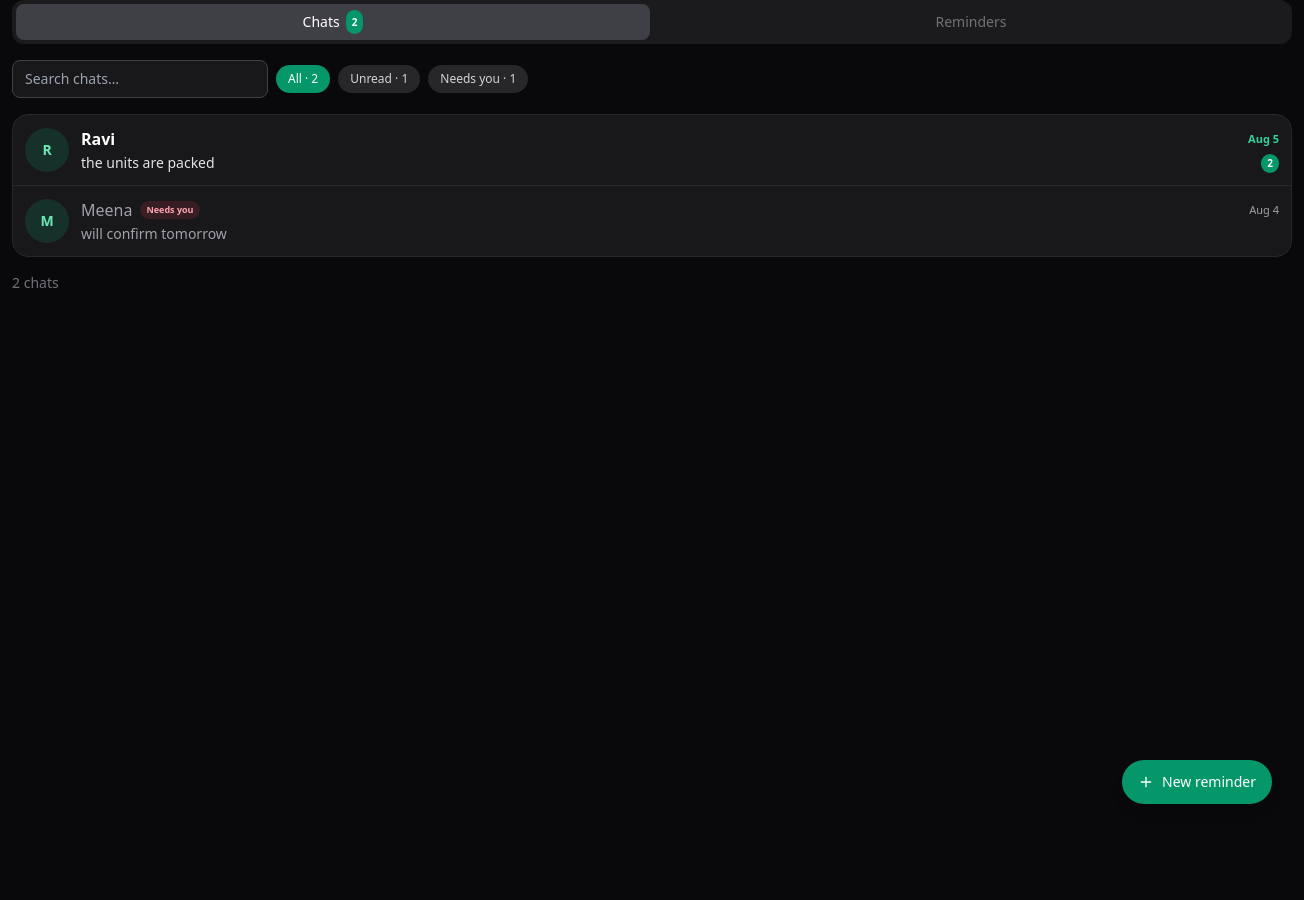
the chats inbox gets search and chips, and stays an inbox (BEA-1287) › the Unread chip narrows to unread chats, and a no-match says so honestly
The width and height of the screenshot is (1304, 900).
Expected: the text "Ravi" is shown, [81,127,115,151]
Click the button "Unread · 1" at (379, 79), box [338,65,420,93]
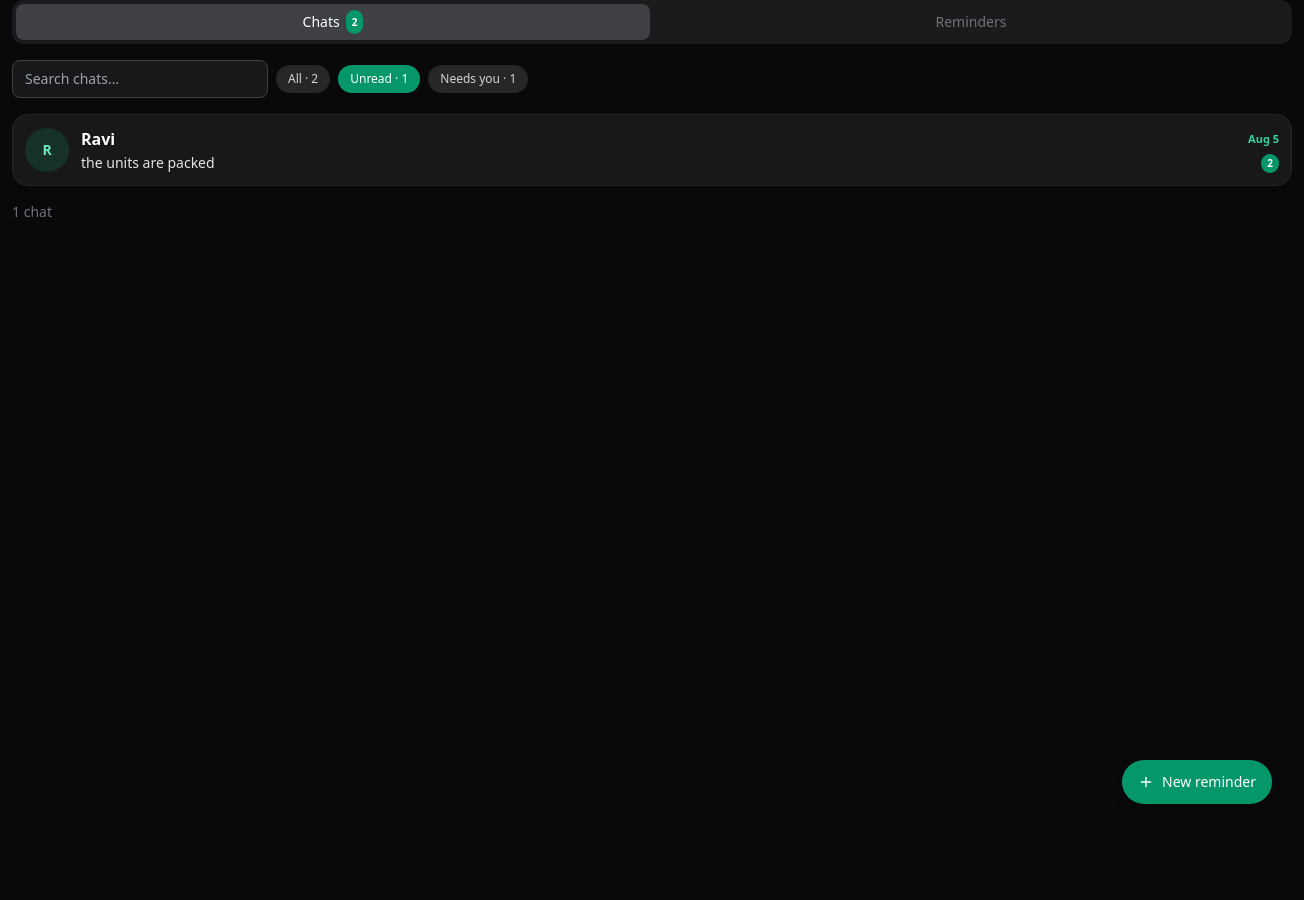
Expected: the text "Ravi" is shown, [81,127,115,151]
Expected: the button "Meena" is gone
Type "zzz" into the field labelled "Search chats" at (140, 79), box [12,60,268,98]
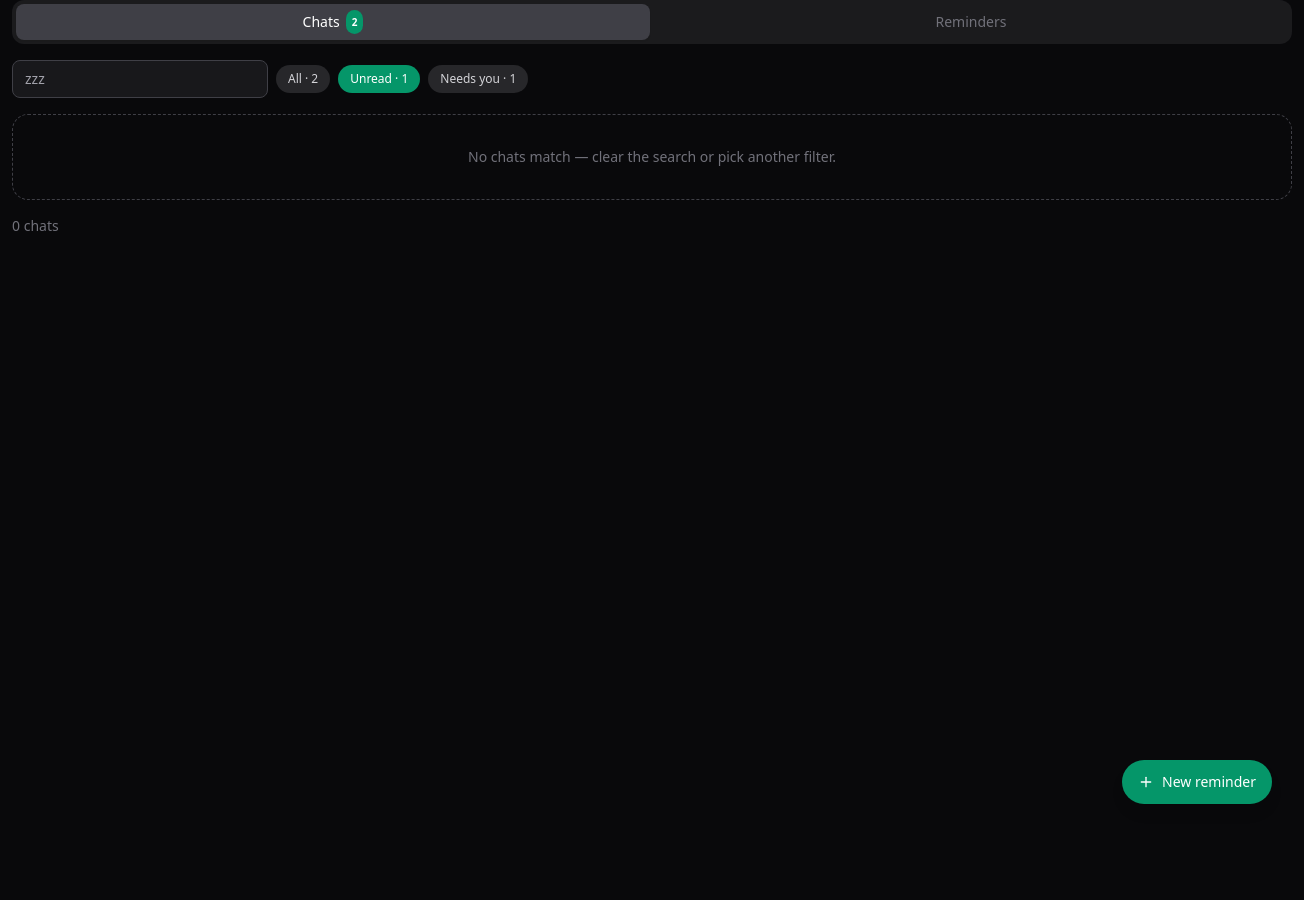
Expected: the text "No chats match — clear the search or pick another filter." is shown, [12,114,1292,200]
